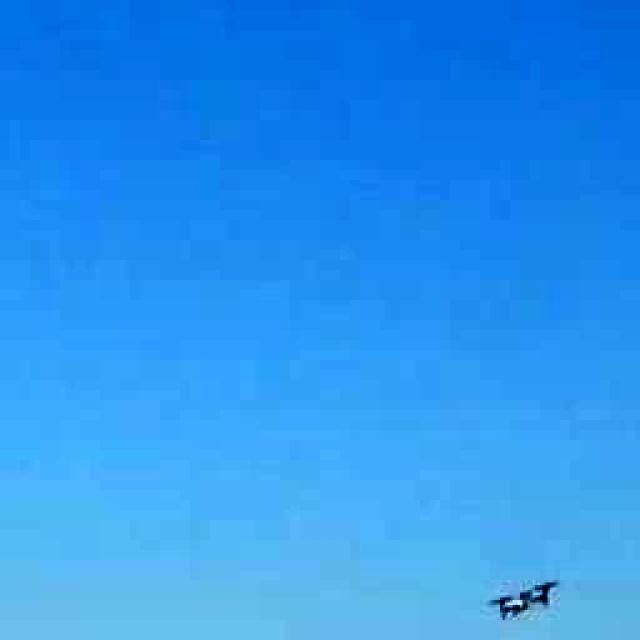bird: (469, 565, 571, 632)
